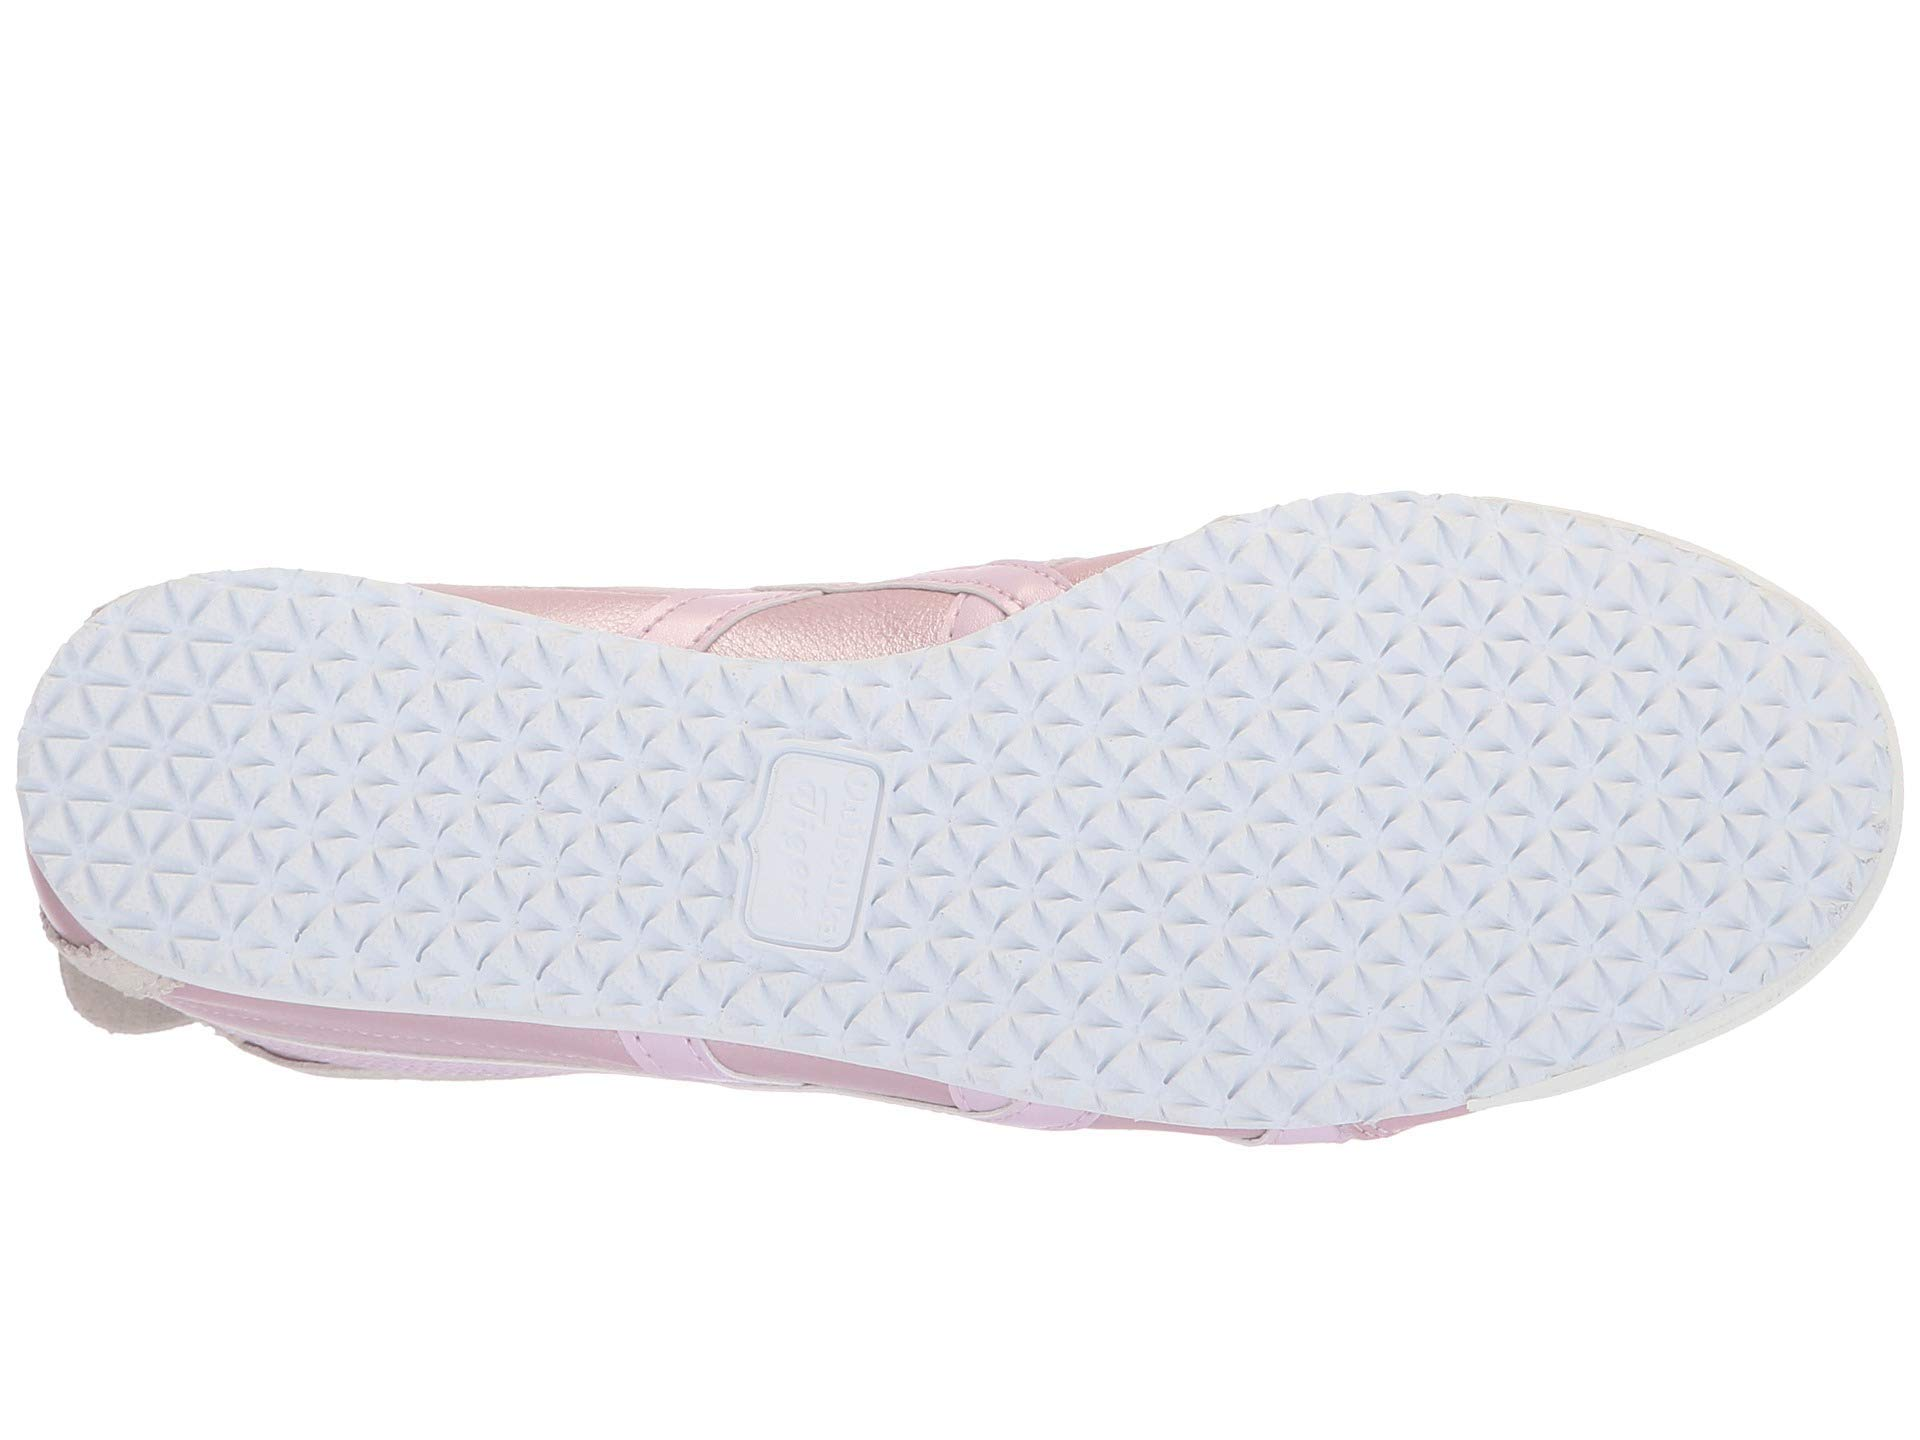polygon: (57, 647, 266, 855)
quad: (720, 718, 897, 976)
star: (931, 694, 1321, 1071), (1321, 529, 1658, 864), (308, 650, 600, 964), (1326, 870, 1559, 1082), (1665, 626, 1860, 821), (1170, 546, 1321, 691)
text: (720, 718, 897, 976)
triangle: (931, 694, 1321, 1071), (1321, 529, 1658, 864), (308, 650, 600, 964), (1326, 870, 1559, 1082), (57, 647, 266, 855), (1665, 626, 1860, 821), (1170, 546, 1321, 691)
